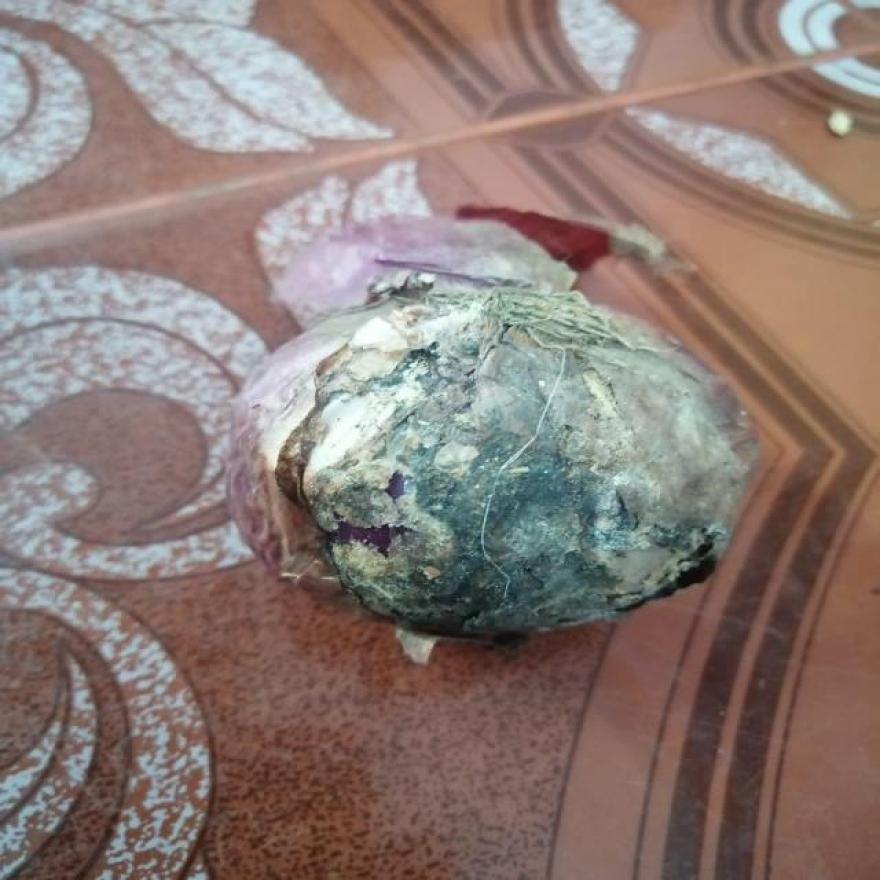Rotten: (348, 394, 718, 621)
